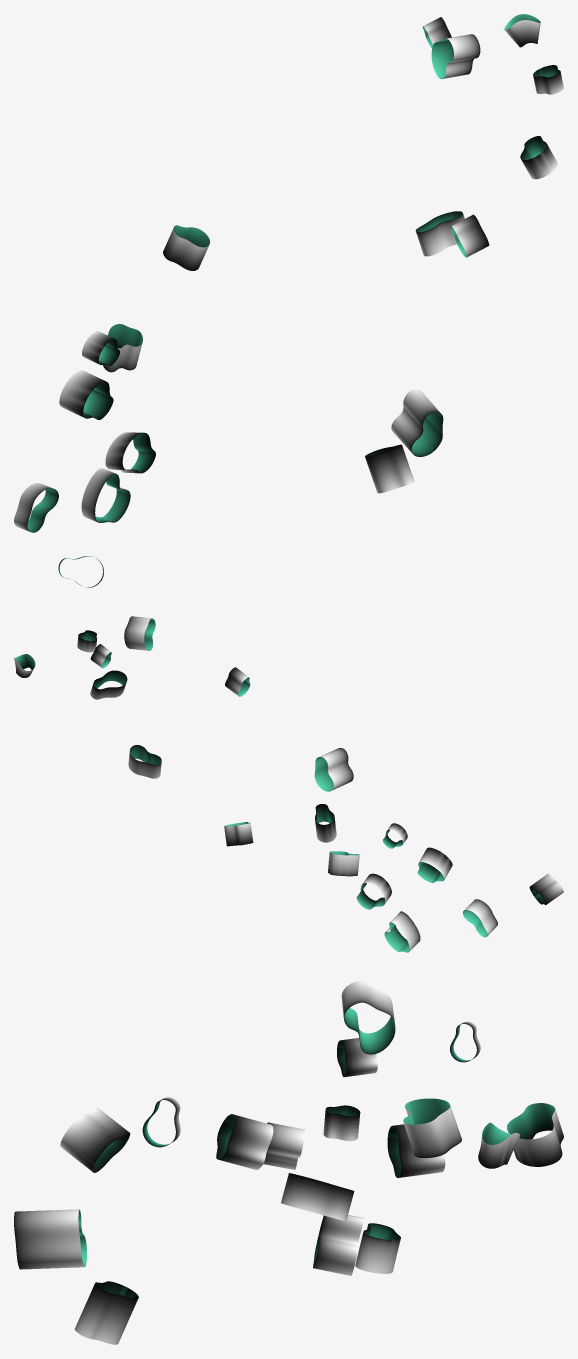
File: WidescreenPortals.fbx
3 renders of one model, top to bottom at view 1: azimuth 30°, elevation 25°; view 2: azimuth 150°, elevation 25°; view 3: azimuth 270°, elevation 25°, orthographic. The views are drawn at different scales.
Visible parts, largest first — view 1: Portal - Infinite 3-1 (9), Portal - Infinite 3-1 (3), Portal - Penrose 3 (5), Portal - Penrose 3 (6), Portal - Infinite 3-1 (2), Portal - Infinite 3-1 (6), Portal - Infinite 3-1 (4), Portal - Infinite 3-1 (1), Portal - Penrose 3 (8), Portal - Infinite 3-1 (5), Portal - Infinite 3-1 (7), Portal - Penrose 3 (9) (+3 smaller); view 2: Portal - Infinite 3-1 (9), Portal - Infinite 3-1 (2), Portal - Penrose 3 (5), Portal - Infinite 3-1 (1), Portal - Penrose 3 (8), Portal - Infinite 3-1 (4), Portal - Infinite 3-1 (5), Portal - Infinite 3-1 (7), Portal - Infinite 3-1 (3), Portal - Penrose 3 (6), Portal - Penrose 3 (7), Portal - Infinite 3-1 (6) (+1 smaller); view 3: Portal - Infinite 3-1 (9), Portal - Penrose 3 (7), Portal - Penrose 3 (6), Portal - Infinite 3-1 (5), Portal - Infinite 3-1 (6), Portal - Infinite 3-1 (1), Portal - Infinite 3-1 (2), Portal - Infinite 3-1 (7), Portal - Penrose 3 (5), Portal - Penrose 3 (8), Portal - Infinite 3-1 (3), Portal - Infinite 3-1 (4) (+4 smaller).
Part boxes in pixels (x1,y1,x2,y2): Portal - Infinite 3-1 (9): (391, 389, 443, 456); Portal - Infinite 3-1 (3): (59, 370, 113, 419); Portal - Penrose 3 (5): (431, 34, 480, 79); Portal - Penrose 3 (6): (365, 444, 414, 493); Portal - Infinite 3-1 (2): (81, 468, 130, 522); Portal - Infinite 3-1 (6): (163, 225, 209, 270); Portal - Infinite 3-1 (4): (14, 483, 58, 532); Portal - Infinite 3-1 (1): (105, 432, 155, 473); Portal - Penrose 3 (8): (415, 211, 464, 256); Portal - Infinite 3-1 (5): (103, 323, 142, 372); Portal - Infinite 3-1 (7): (520, 136, 557, 179); Portal - Penrose 3 (9): (450, 214, 489, 257); Portal - Infinite 3-1 (9): (314, 748, 353, 791); Portal - Infinite 3-1 (2): (384, 911, 420, 952); Portal - Penrose 3 (5): (124, 616, 155, 650); Portal - Infinite 3-1 (1): (417, 847, 452, 883); Portal - Penrose 3 (8): (128, 745, 161, 778); Portal - Infinite 3-1 (4): (463, 899, 497, 937); Portal - Infinite 3-1 (5): (328, 851, 359, 876); Portal - Infinite 3-1 (7): (90, 670, 127, 699); Portal - Infinite 3-1 (3): (356, 873, 391, 909); Portal - Penrose 3 (6): (315, 804, 336, 842); Portal - Penrose 3 (7): (529, 874, 563, 905); Portal - Infinite 3-1 (6): (224, 822, 253, 846); Portal - Infinite 3-1 (9): (14, 1209, 86, 1269); Portal - Penrose 3 (7): (60, 1107, 130, 1172); Portal - Penrose 3 (6): (74, 1281, 138, 1344); Portal - Infinite 3-1 (5): (403, 1098, 461, 1157); Portal - Infinite 3-1 (6): (507, 1103, 563, 1166); Portal - Infinite 3-1 (1): (216, 1114, 273, 1169); Portal - Infinite 3-1 (2): (313, 1215, 363, 1275); Portal - Infinite 3-1 (7): (281, 1173, 354, 1220); Portal - Penrose 3 (5): (341, 981, 395, 1054); Portal - Penrose 3 (8): (355, 1223, 400, 1273); Portal - Infinite 3-1 (3): (387, 1124, 445, 1177); Portal - Infinite 3-1 (4): (263, 1122, 305, 1169).
Size of the model in its own units: 93.08 by 55.11 by 52.7.
